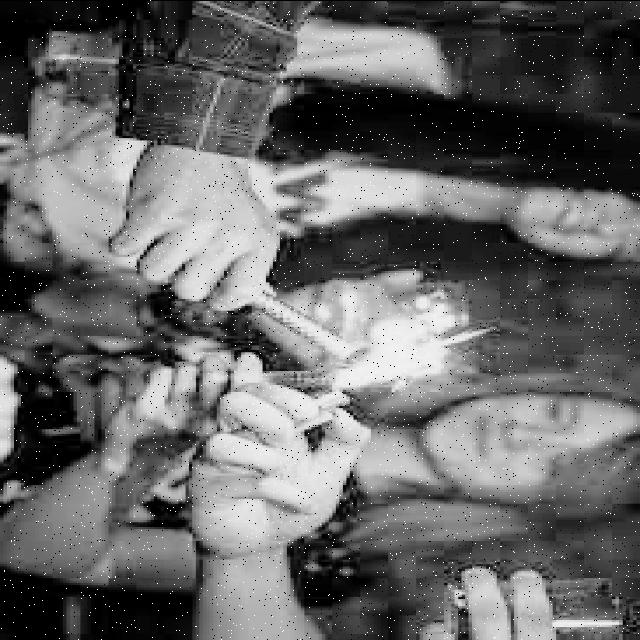api: (326, 309, 431, 397)
